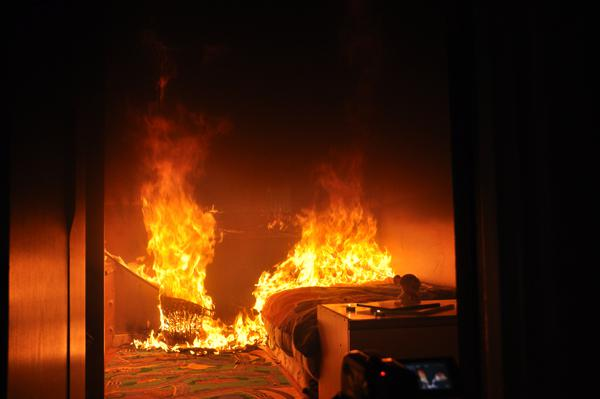fire: (116, 93, 243, 357), (253, 171, 397, 303), (232, 310, 272, 358)
